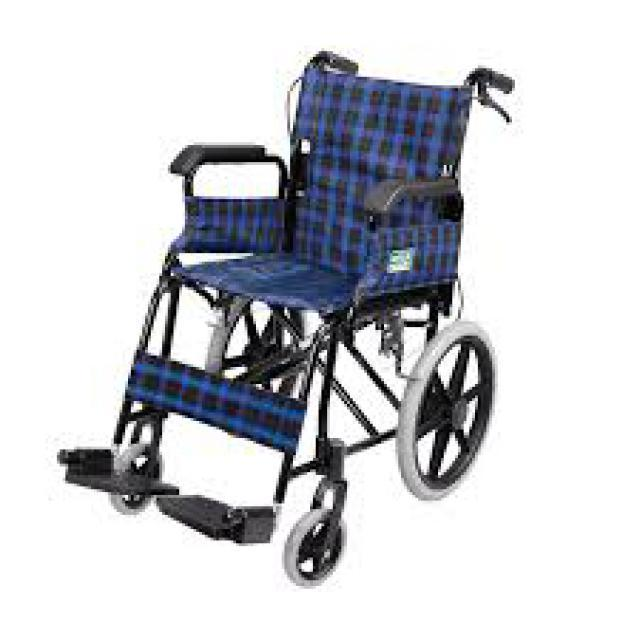wheelchair: (48, 45, 515, 638)
